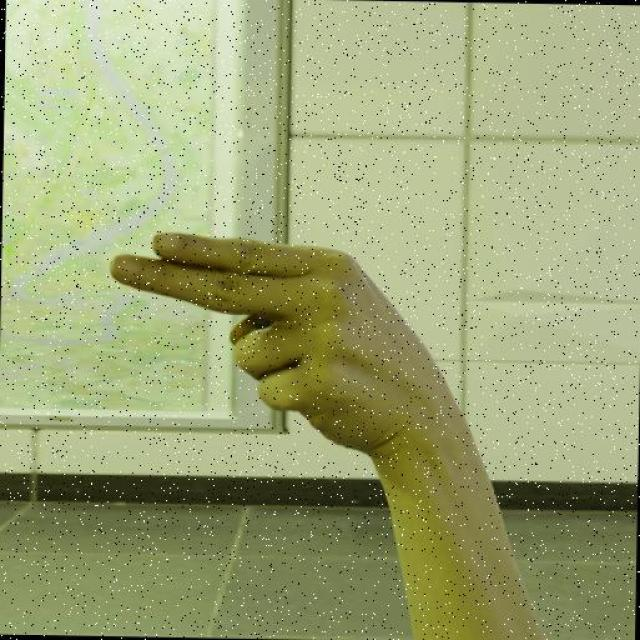H: (98, 222, 471, 463)
